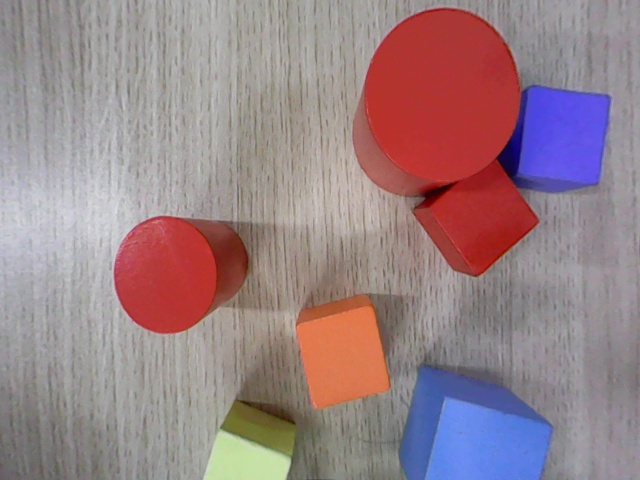upside of big cube: (423, 396, 553, 479)
upside of cylinder: (364, 7, 520, 181), (113, 216, 218, 335)
upside of small cube: (426, 158, 541, 278), (295, 304, 391, 410), (518, 85, 611, 185), (202, 428, 294, 479)
